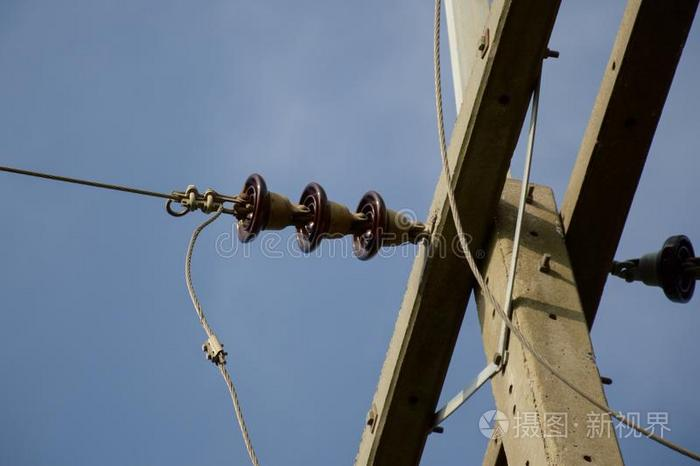insulator: (235, 171, 390, 268)
